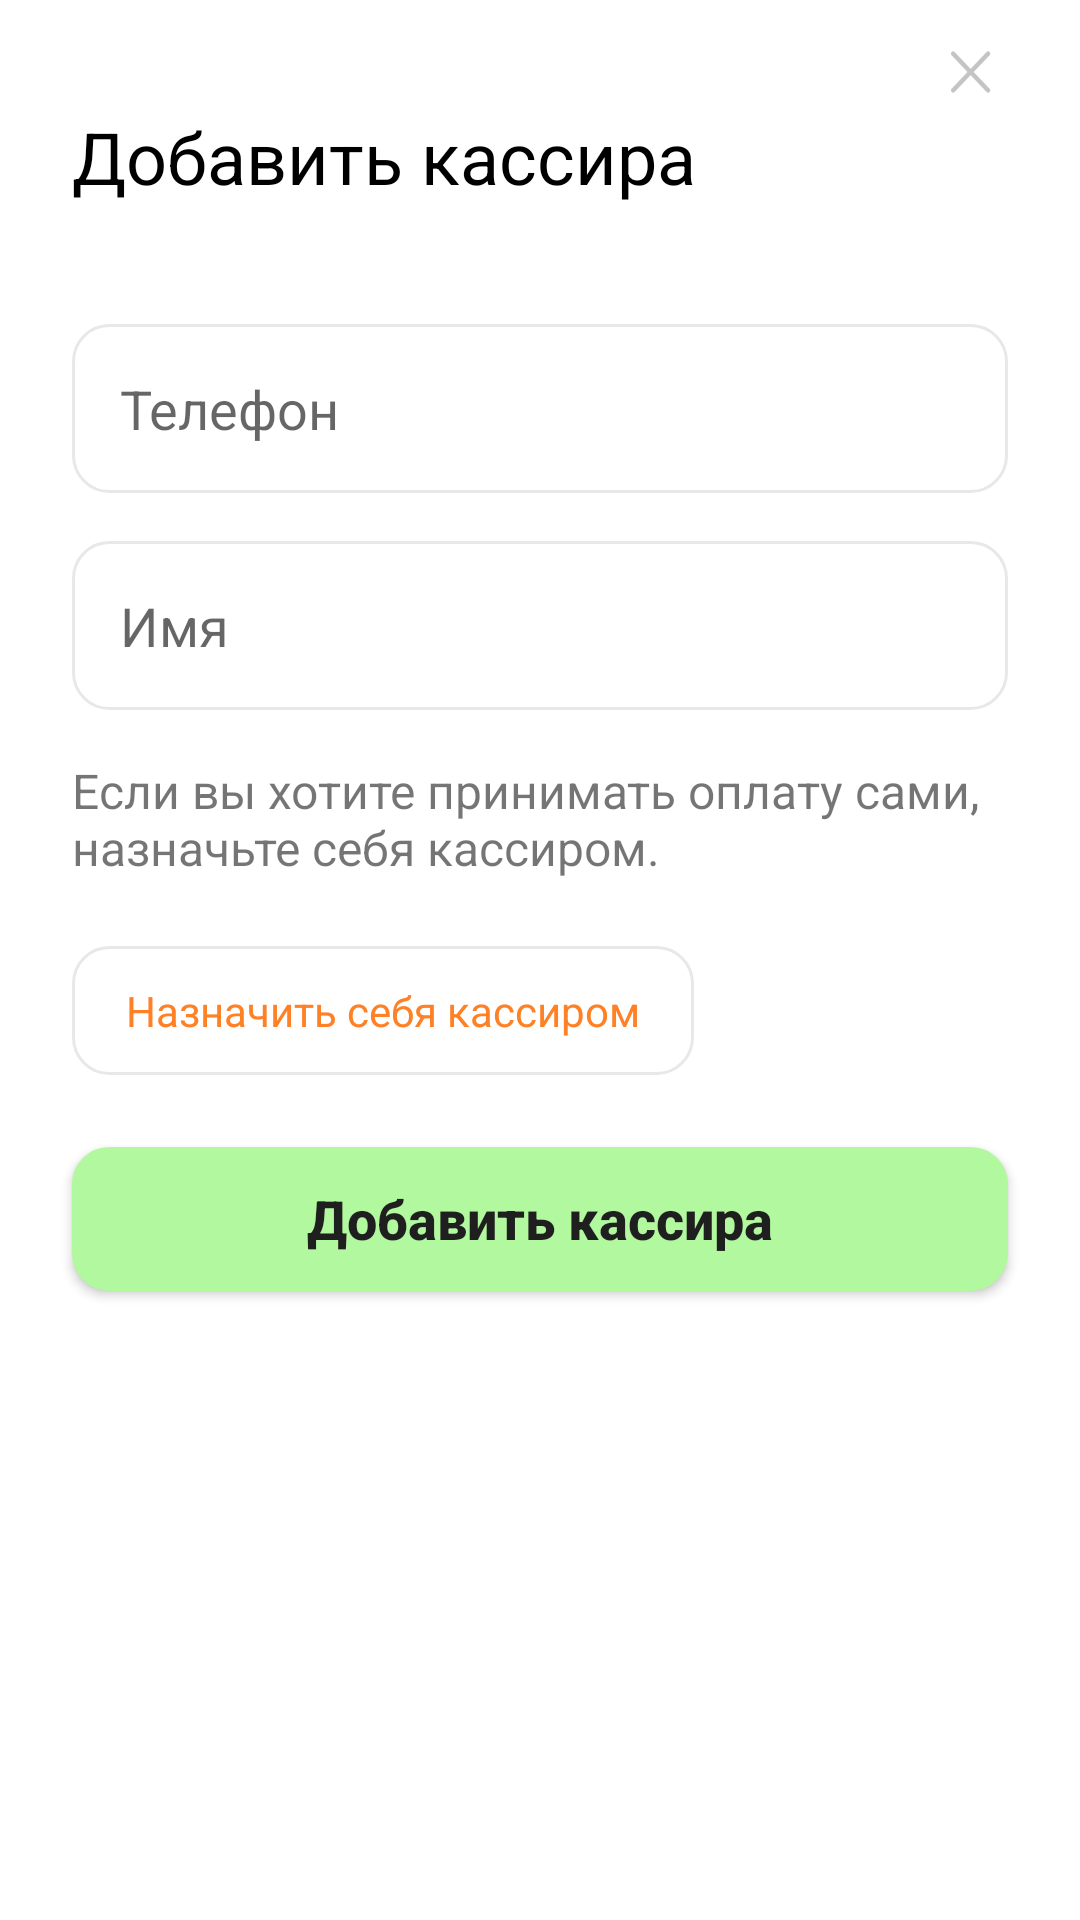

Screen size 1080*1920. Icon name, then its box in pixels as (x1, y1, x2, y2):
close: (951, 51, 990, 93)
